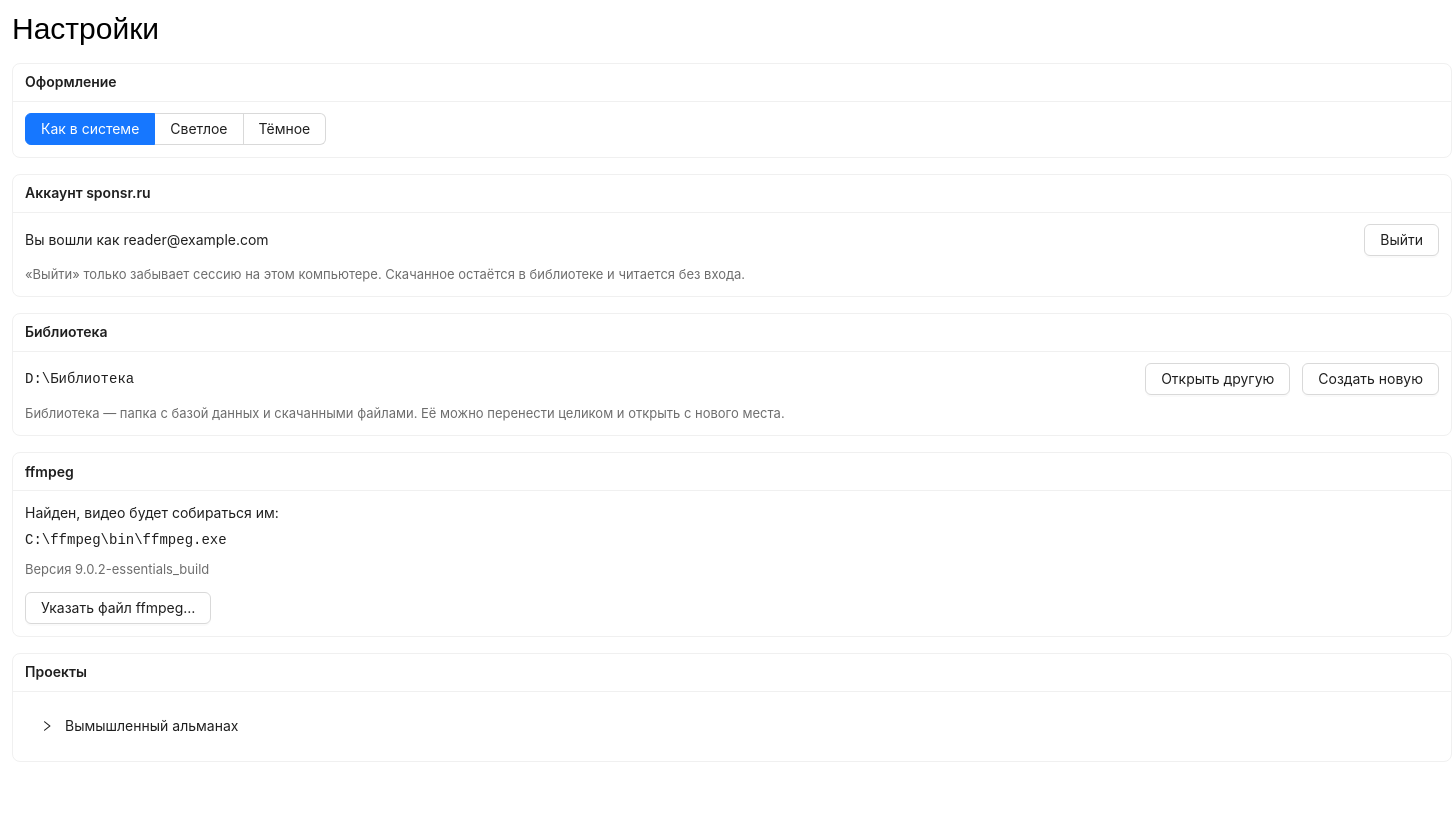
Test case: SettingsView › shows who is signed in and signs out
The image size is (1452, 822).
Click the button "Выйти" at (1402, 240), box [1364,224,1439,256]
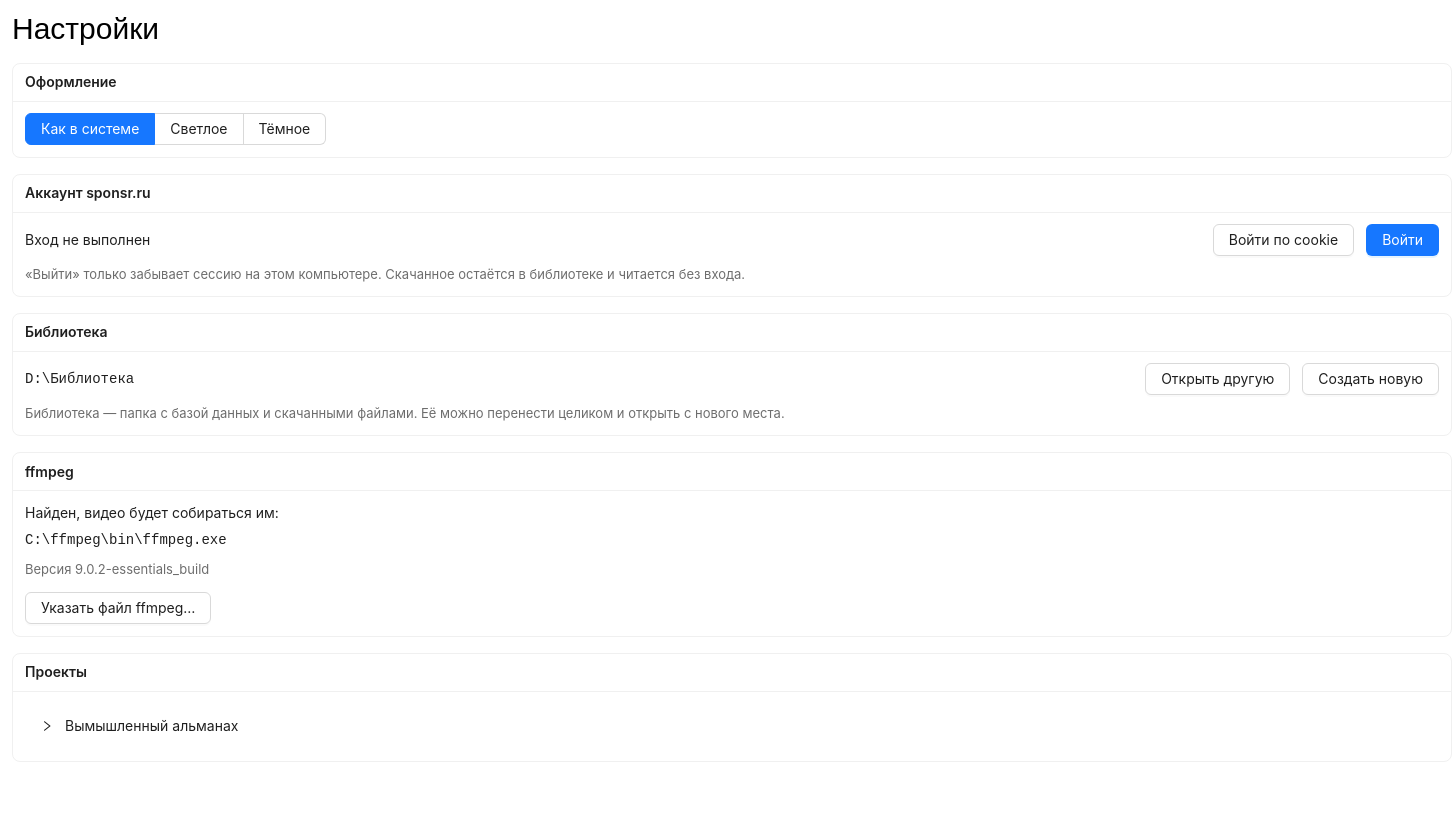
Result: the text "Вход не выполнен" is shown at [25,230,150,248]
Result: the button "Войти" is shown at [1366,224,1439,256]
